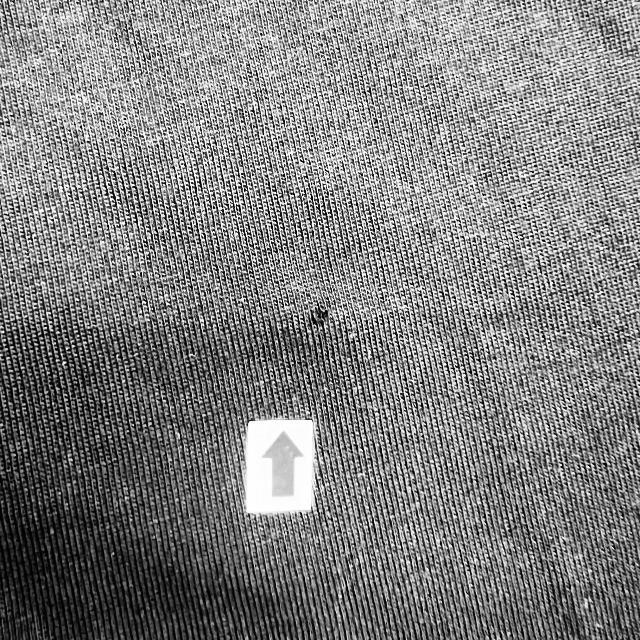Hole: (290, 294, 342, 334)
